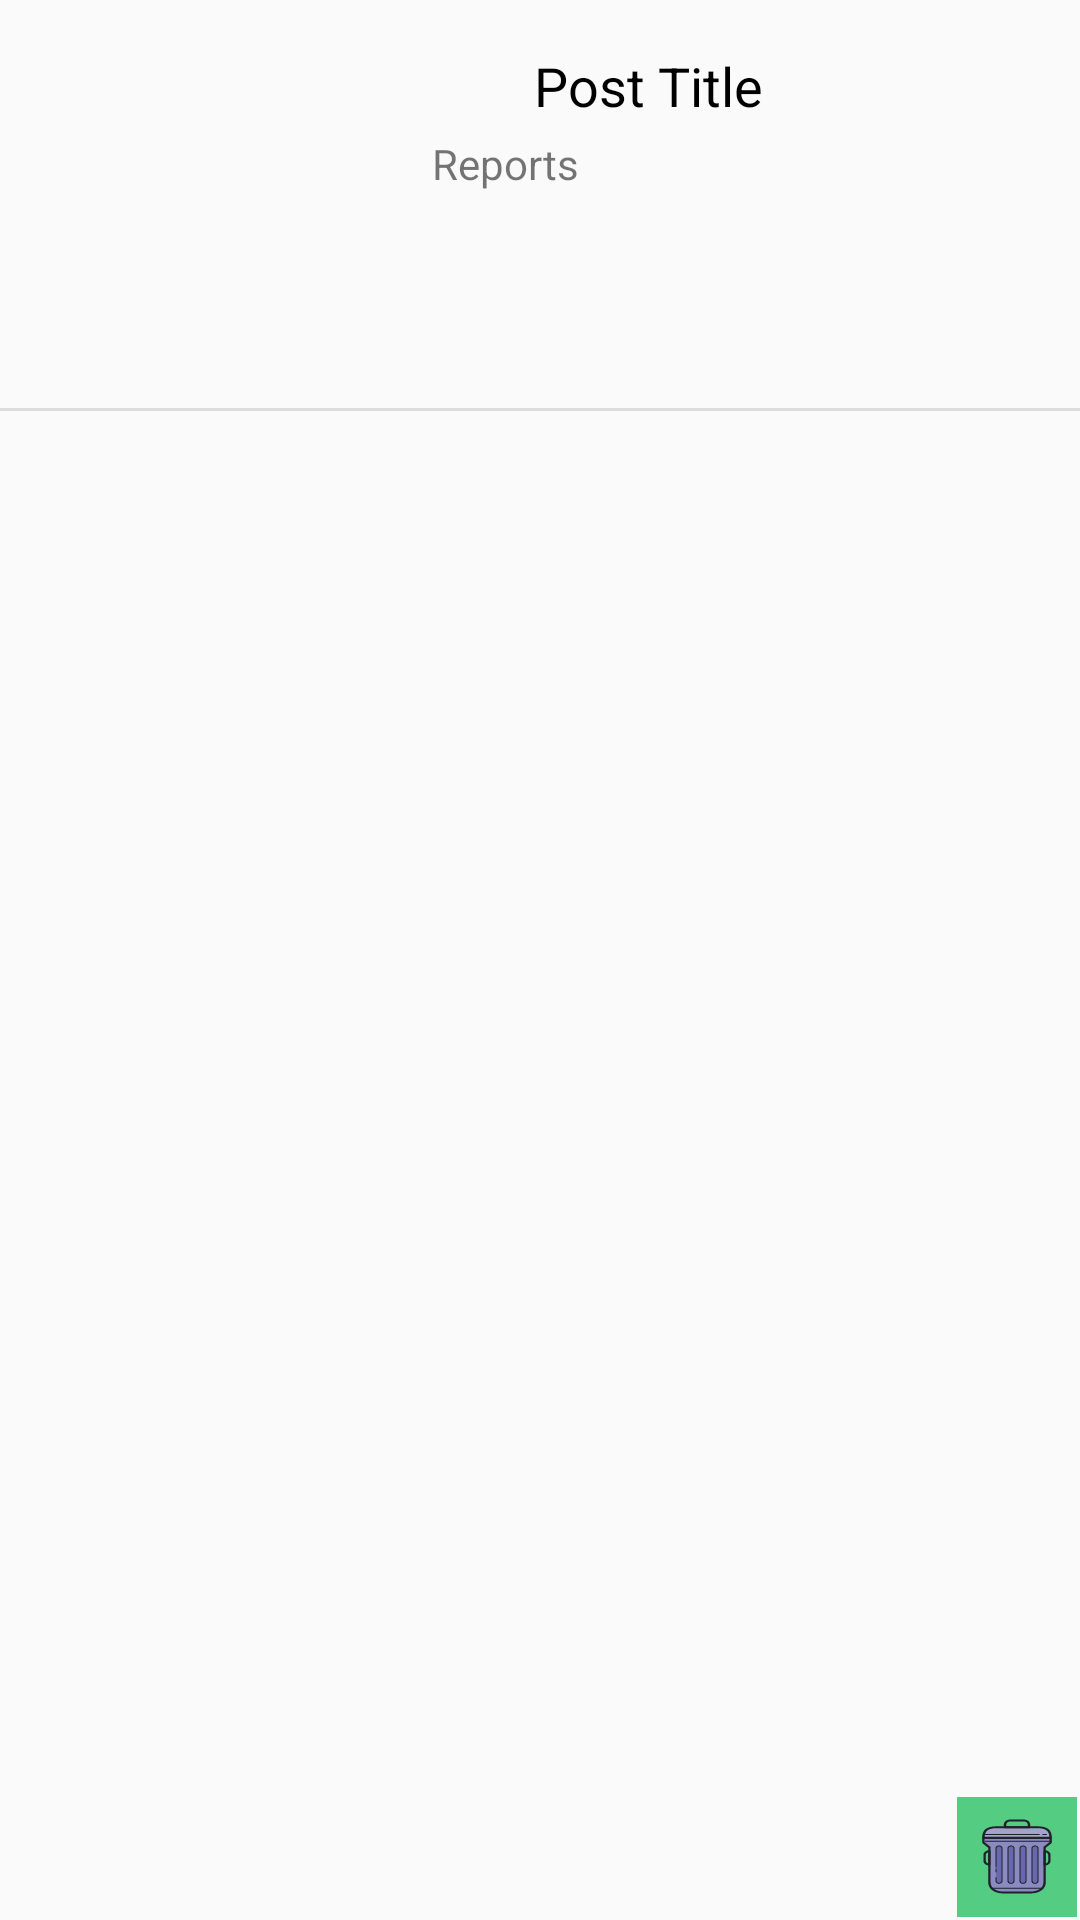

Named icons in this screenshot (1080px x 1920px) and their centers, [x,y]:
trash can: [1017,1857]
